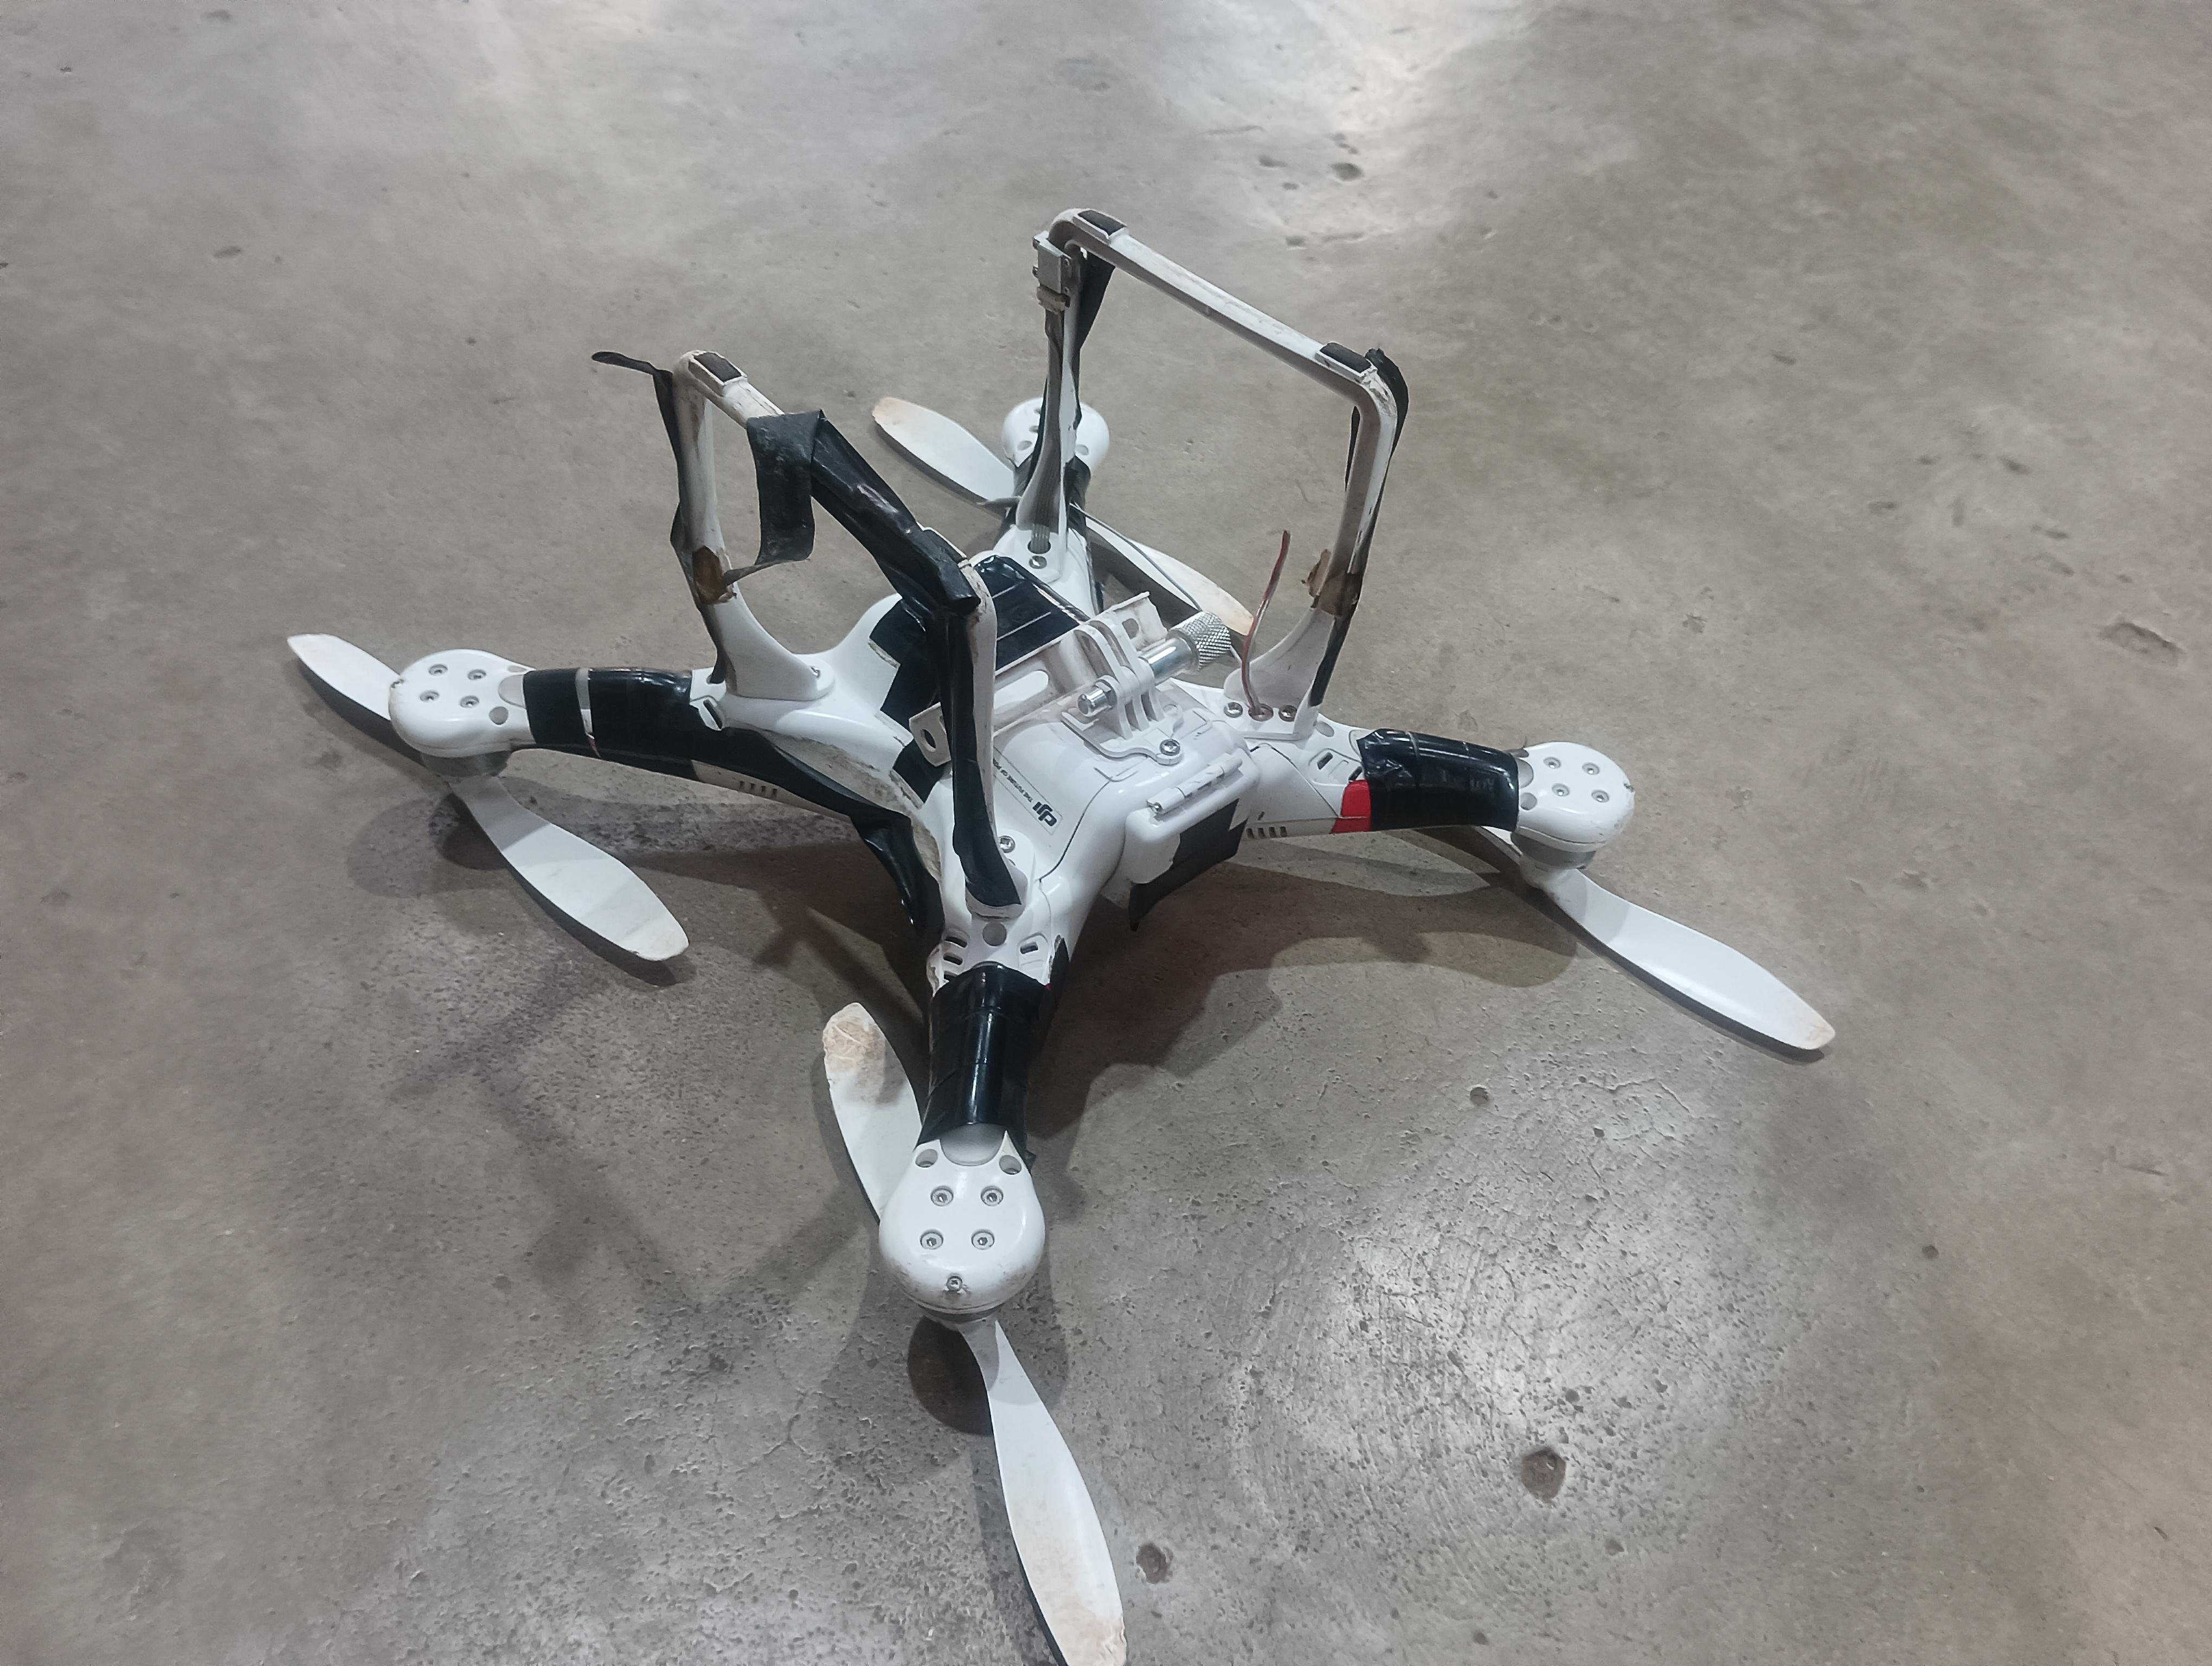drone: (196, 180, 1937, 1666)
